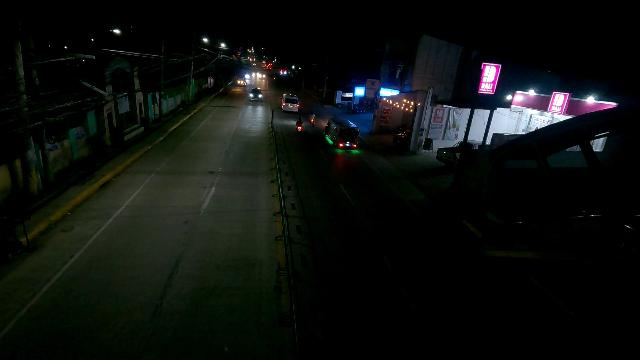car: (249, 86, 262, 103)
jeepney: (325, 117, 361, 150)
motorcycle: (295, 122, 305, 134), (310, 112, 317, 127)
van: (280, 92, 300, 113)
